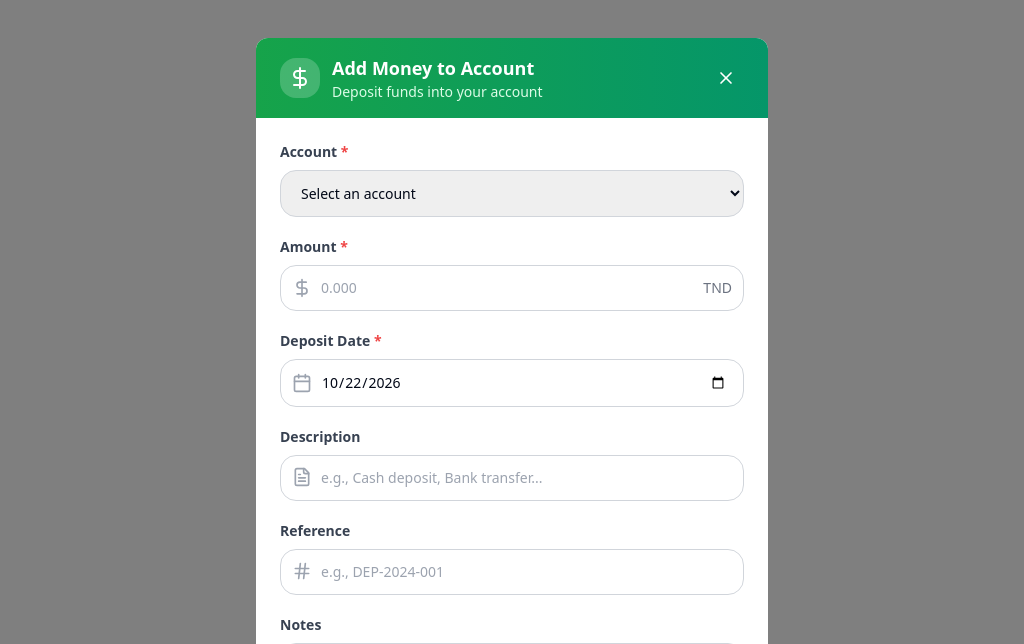
Test: DepositModal › New Balance Calculation › should display new balance when amount is entered
The image size is (1024, 644).
Select "Main Bank Account - 10 000,000 TND" in the dropdown at [512, 194], box [280,170,744,217]
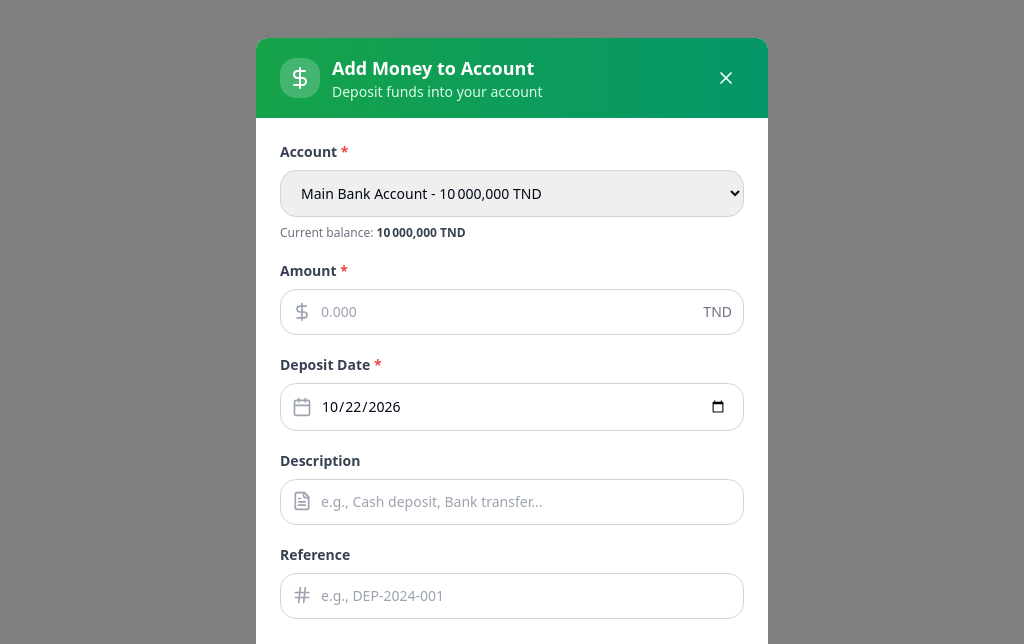
Type "2000" into the number field with placeholder "0.000" at [512, 312], box [280,289,744,335]
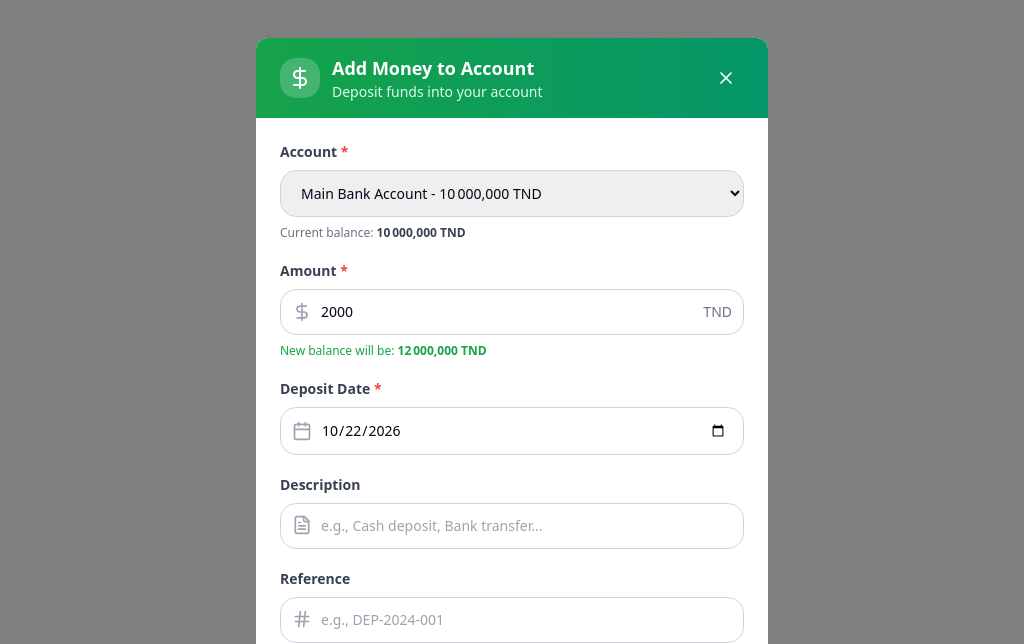
Expected: the text "New balance will be: 12 000,000 TND" is shown, [280,342,487,359]
